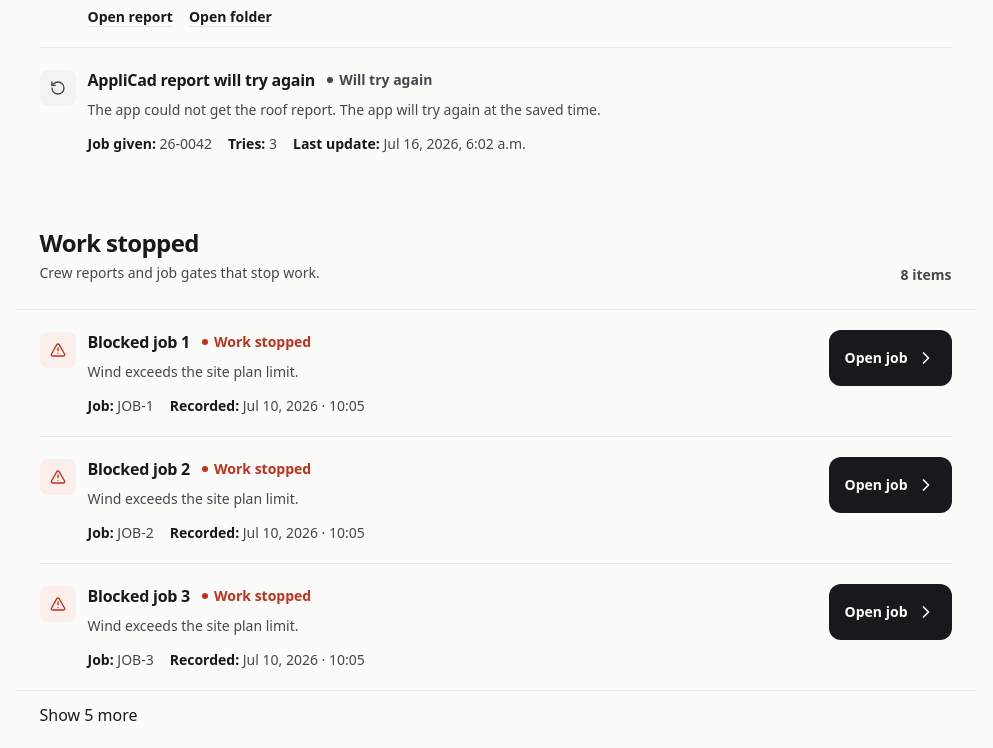
it: OwnerNowPage › keeps long lanes scannable until the owner asks for the remaining work
(page scrolled)
Expected: the text "Blocked job 1" is shown, [88,330,190,354]
Expected: the text "Blocked job 3" is shown, [88,584,190,608]
Click the button "Show 5 more". click: x=88, y=715
box: [40,703,138,727]
(page scrolled)
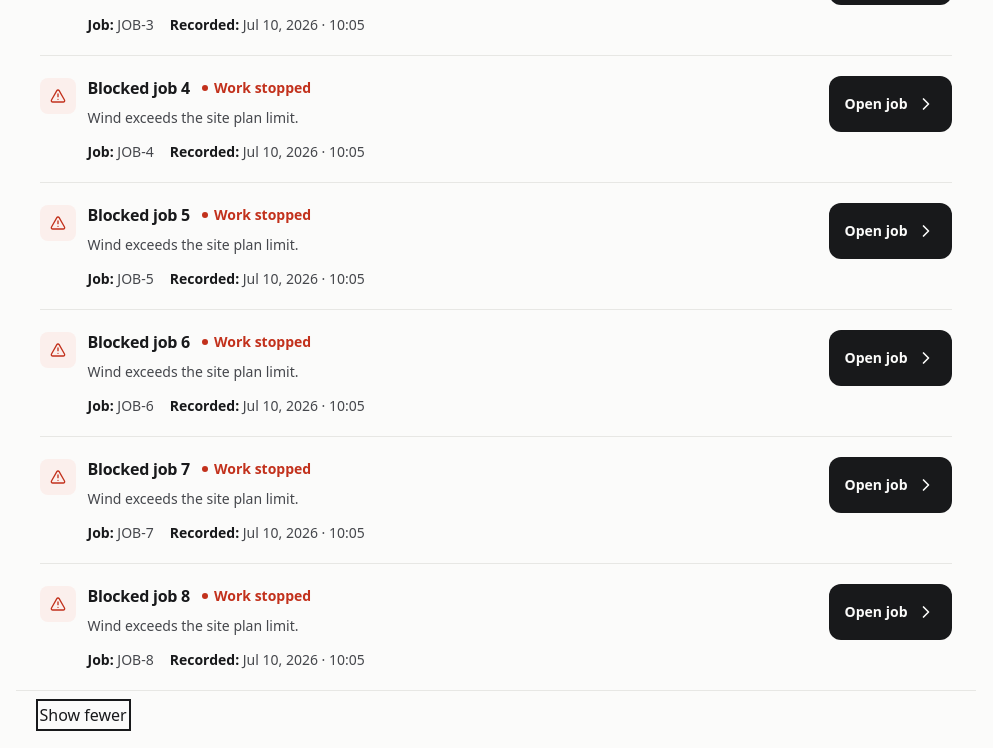
Now the text "Blocked job 7" is shown, box [88,457,190,481]
Now the text "Blocked job 8" is shown, box [88,584,190,608]
Now the button "Show fewer" is expanded, box [40,703,127,727]
